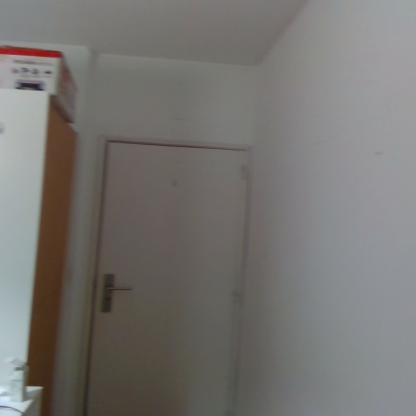door: (97, 140, 253, 416)
hinged: (241, 162, 251, 183), (234, 286, 243, 304), (226, 410, 234, 416)
lever: (106, 285, 135, 292)
